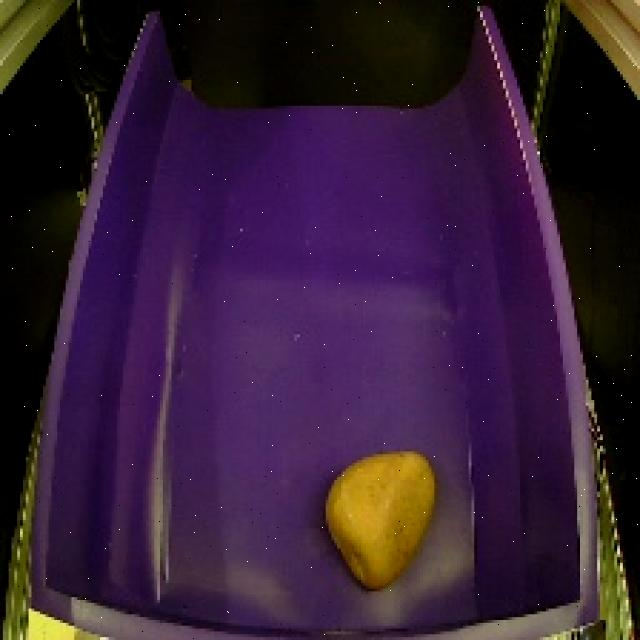cobbles: (306, 441, 442, 593)
